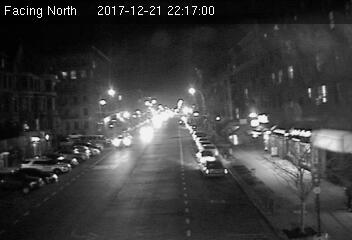car: (200, 161, 229, 179), (112, 133, 131, 148), (196, 150, 217, 163)
